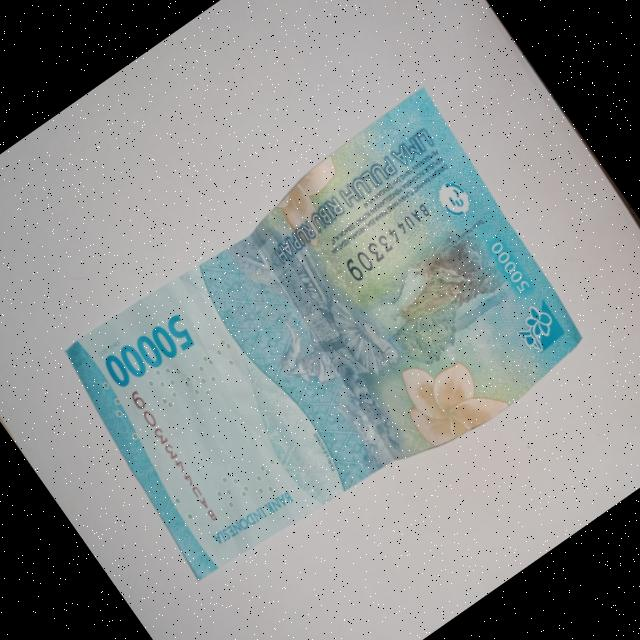50K: (31, 79, 606, 618)
